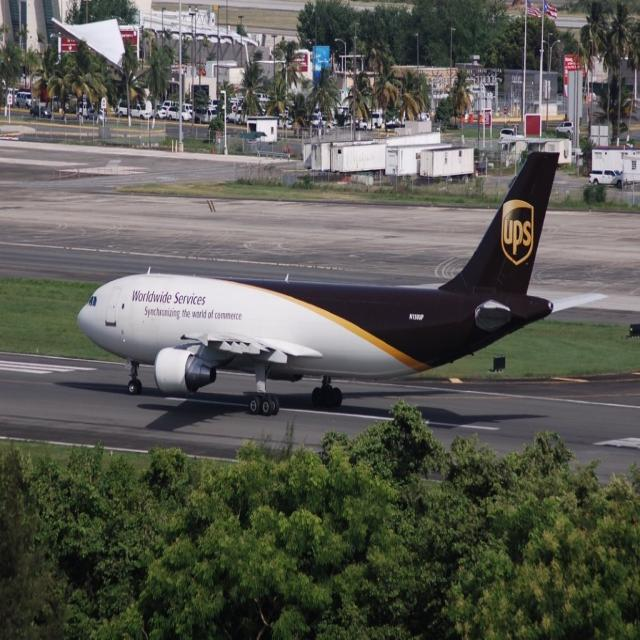ups: (501, 198, 535, 267)
